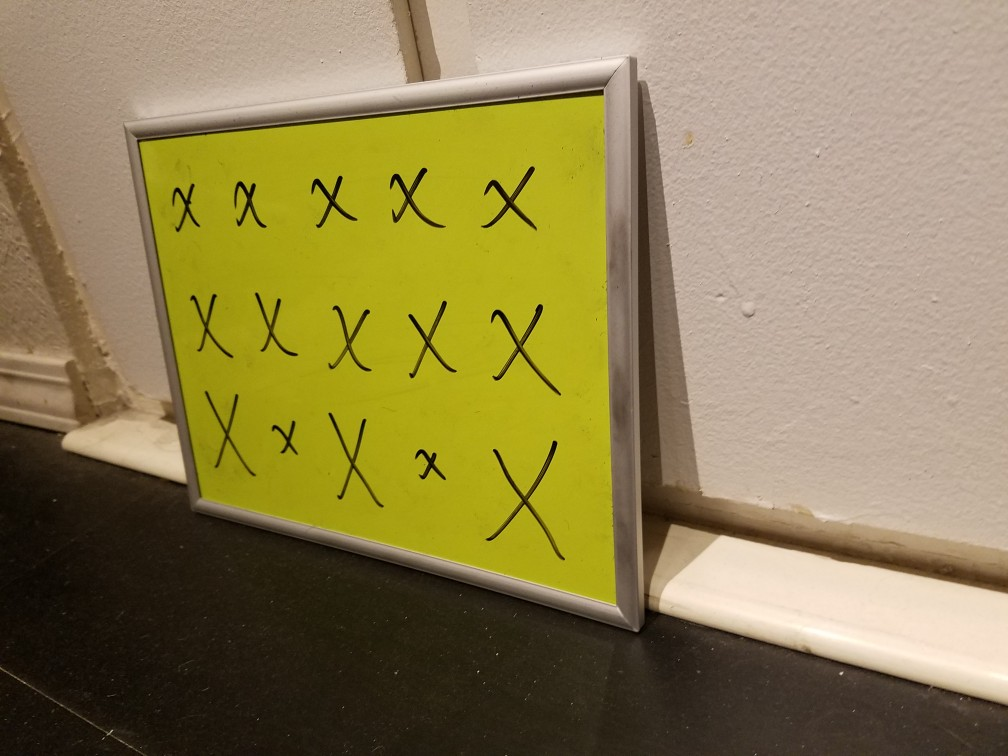x: (480, 416, 573, 558), (476, 293, 564, 405), (457, 154, 547, 244), (376, 153, 453, 245), (332, 394, 386, 520), (203, 380, 262, 489), (400, 289, 460, 386), (250, 280, 300, 379), (212, 163, 279, 236), (301, 159, 356, 242), (182, 276, 232, 366), (320, 299, 373, 381), (406, 433, 452, 493), (162, 173, 201, 242), (264, 410, 300, 466)
